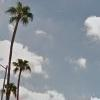Palm tree: (2, 2, 32, 96)
